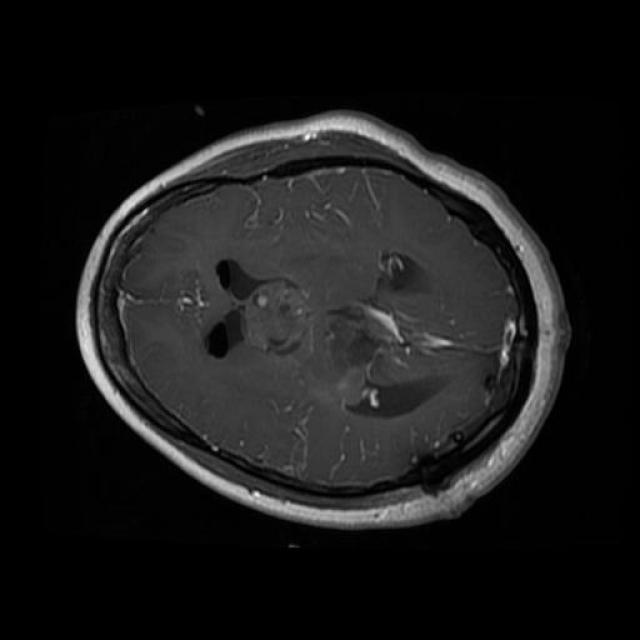Glioma: (241, 277, 316, 355)
